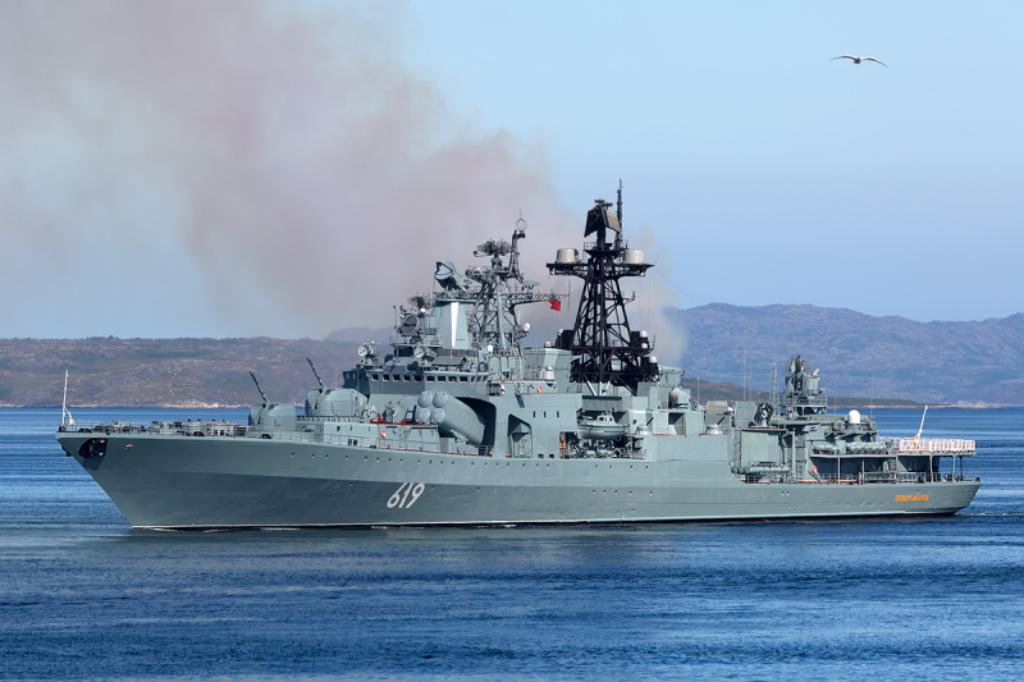Warship: (48, 174, 984, 538)
